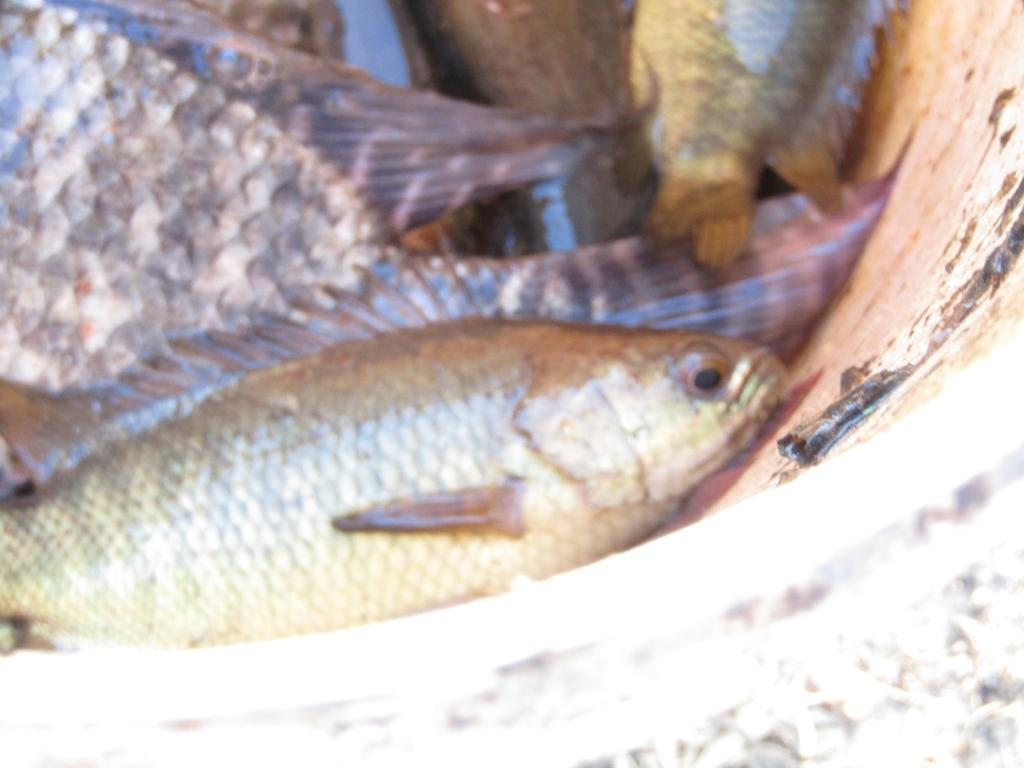Climbing Perch: (7, 248, 788, 642)
